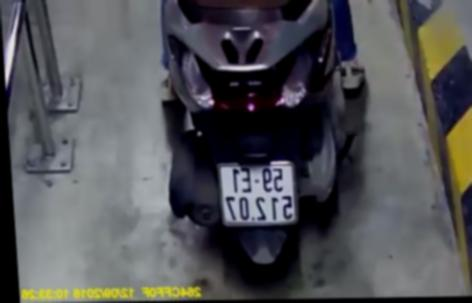License_Plate: (208, 155, 307, 234)
